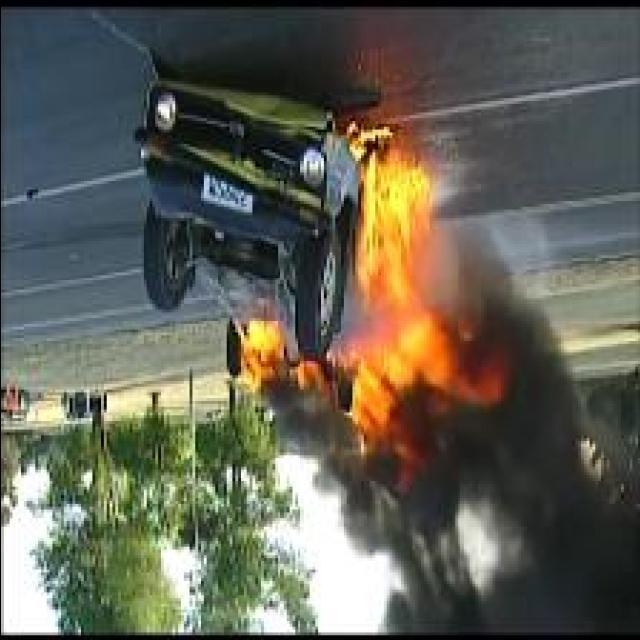Fire: (343, 114, 503, 492), (232, 318, 286, 391), (290, 358, 327, 398)
